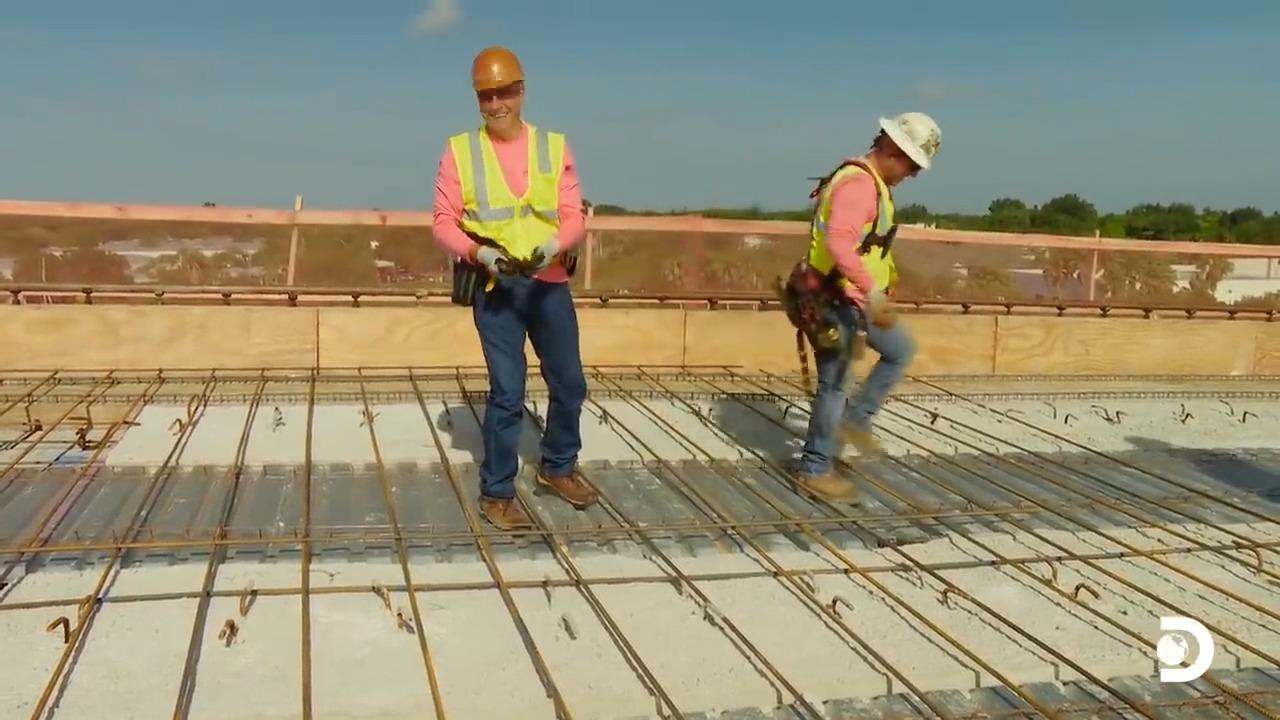Gloves: (519, 246, 560, 277), (858, 290, 894, 325)
Helmet: (878, 111, 941, 170), (471, 46, 524, 92)
Person: (430, 46, 598, 530), (792, 110, 942, 504)
Safety Boot: (469, 494, 528, 532), (535, 471, 599, 498), (797, 471, 846, 499)
Safety Vest: (464, 132, 567, 251), (812, 168, 895, 286)
bare-arms: (473, 241, 506, 284)
